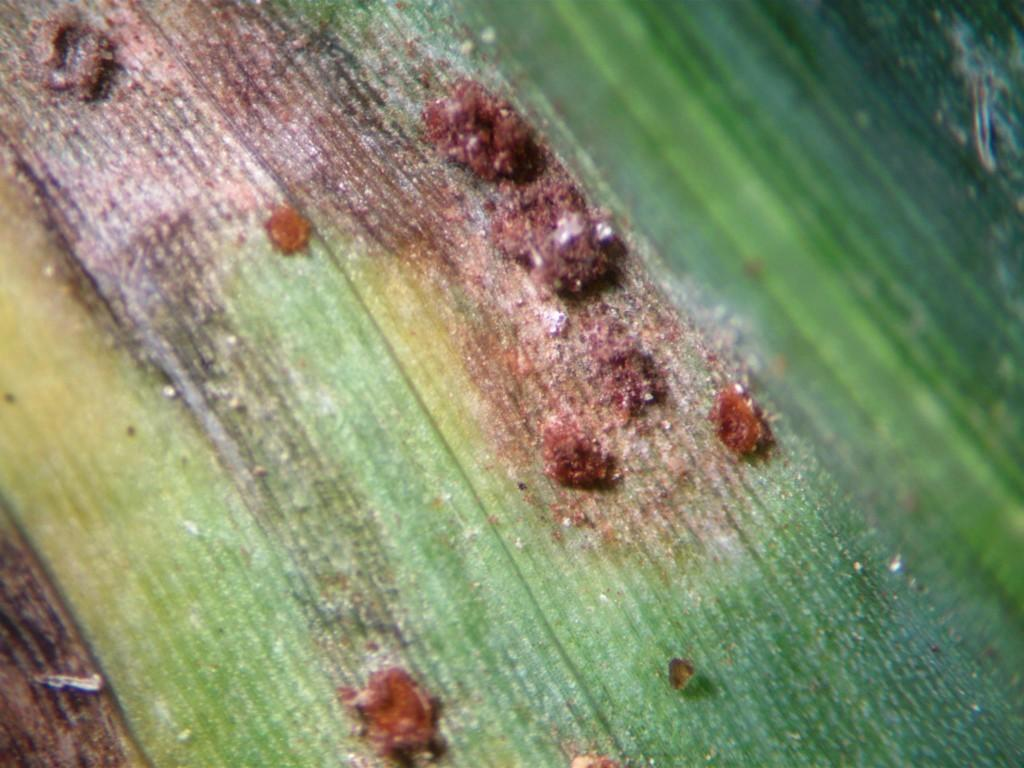Corn rust leaf: (100, 1, 986, 768)
